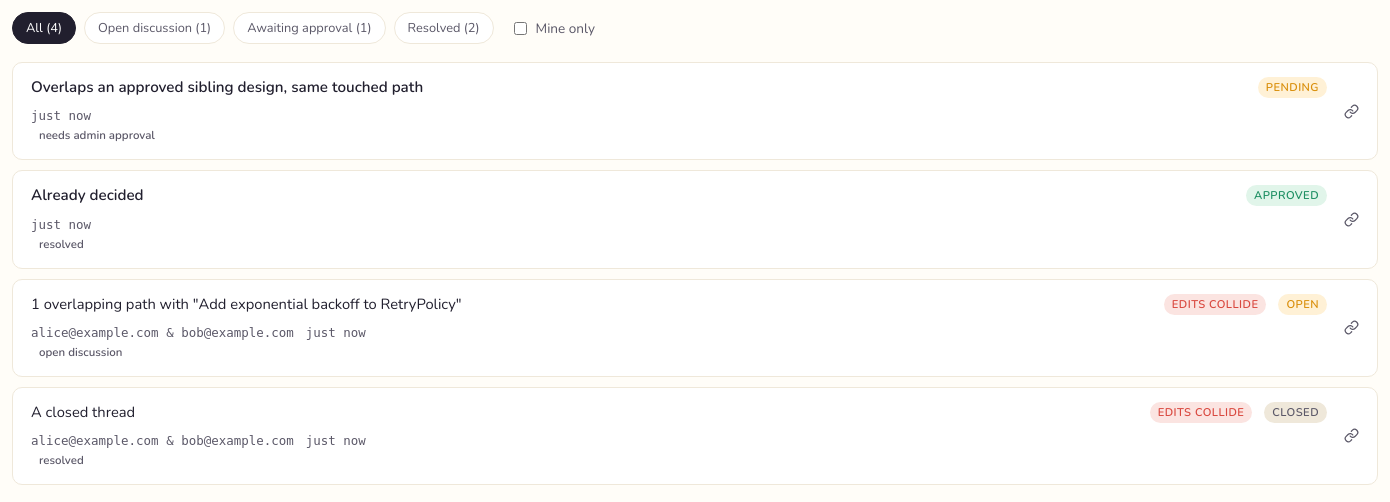
ConflictsView › filter chips isolate each stage, with counts
The image size is (1390, 502).
Expected: the button "All (4)" is shown, [12, 12, 76, 44]
Expected: the button "Open discussion (1)" is shown, [84, 12, 225, 44]
Click the button "Awaiting approval (1)": (309,28) [233, 12, 386, 44]
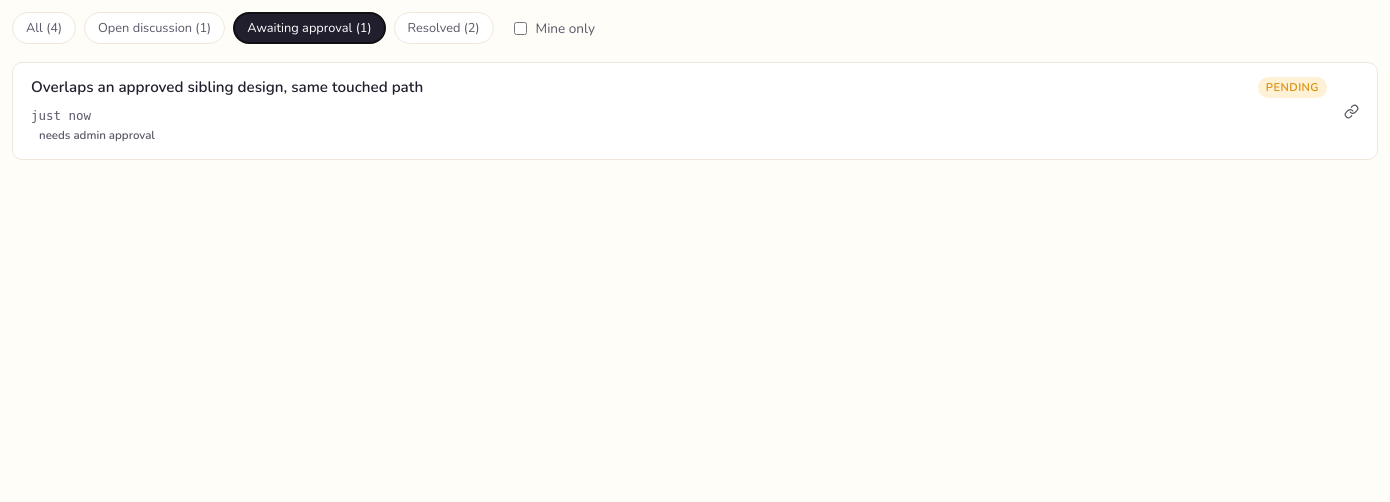
Expected: the text "Overlaps an approved sibling design, same touched path" is shown, [31, 77, 423, 97]
Now the button "Already decided" is gone
Now the button "1 overlapping path with \"Add exponential backoff to RetryPolicy\"" is gone
Click the button "Resolved (2)": (444,28) [394, 12, 494, 44]
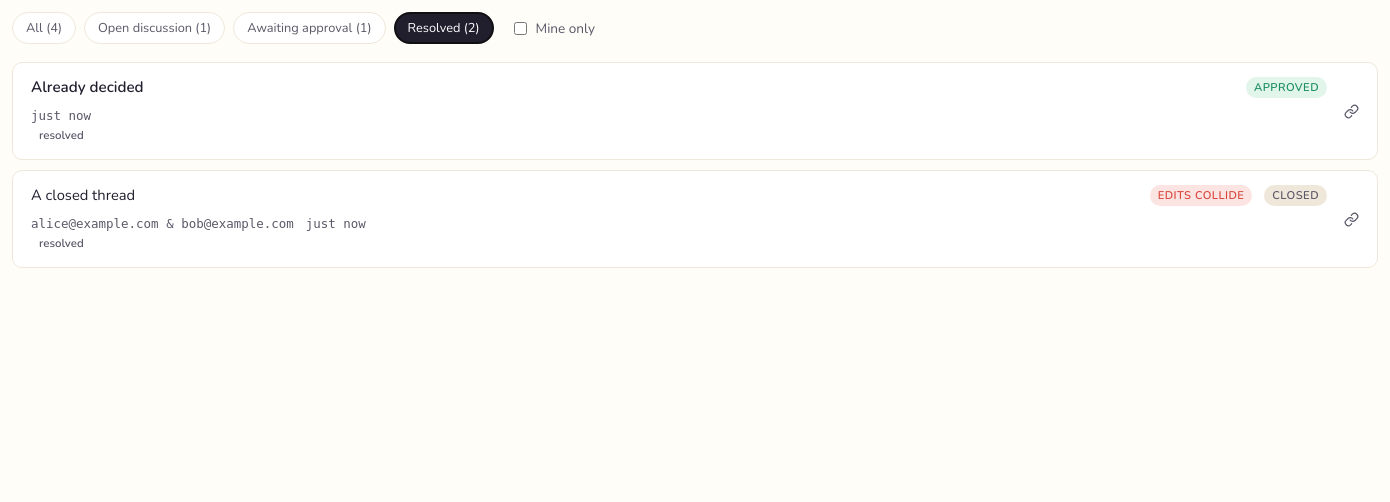
Now the text "Already decided" is shown, box [31, 77, 144, 97]
Now the text "A closed thread" is shown, box [31, 185, 135, 205]
Now the button "Overlaps an approved sibling design, same touched path" is gone
